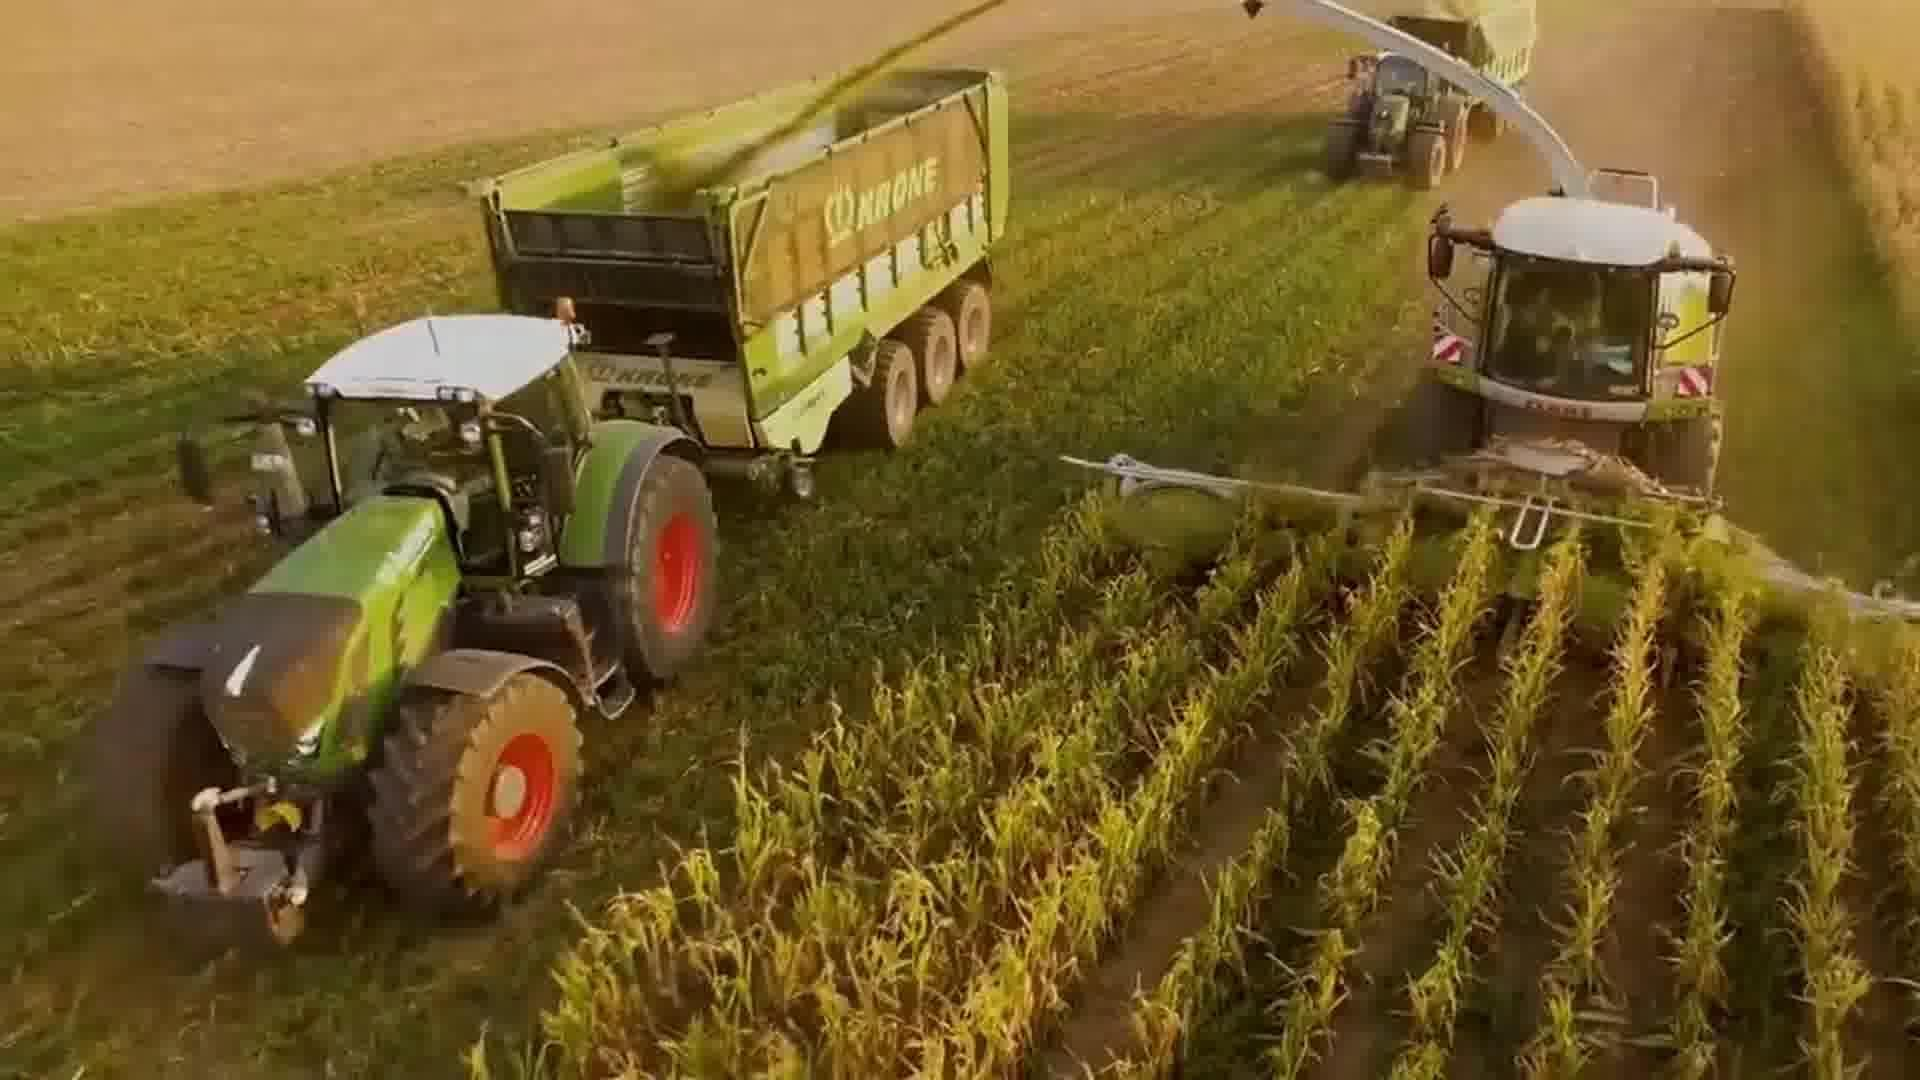combine harvester: (1038, 0, 1920, 717)
tractor: (84, 284, 726, 943), (1320, 47, 1474, 191)
trailer: (466, 51, 1024, 480), (1370, 0, 1544, 137)
